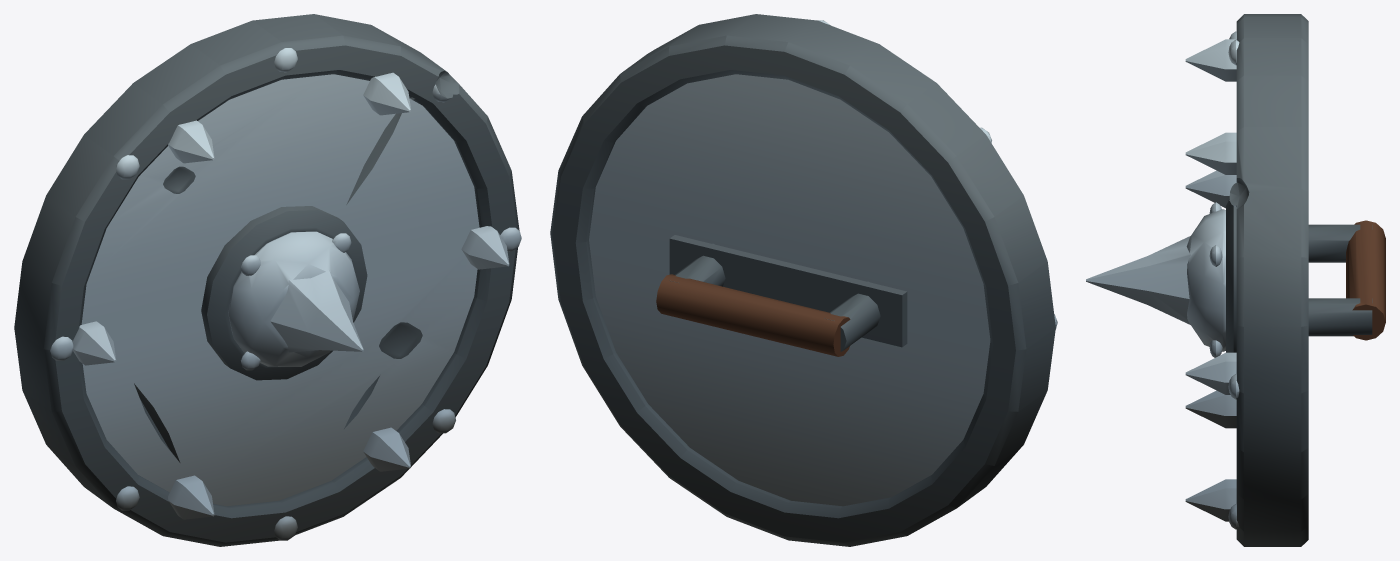
The model's file is shield_buckler_spiked.glb.
3 views of the same model, side by side, from view 1: azimuth 30°, elevation 25°; view 2: azimuth 150°, elevation 25°; view 3: azimuth 270°, elevation 25° (orthographic). The views are drawn at different scales.
Parts seen in each view (by area): view 1: Item; view 2: Item; view 3: Item.
Part boxes in pixels (x1,y1,x2,y2): Item: (14,14,521,546); Item: (550,14,1057,546); Item: (1086,14,1385,546).
Bounding box in the file's own units: 0.86 × 0.86 × 0.482.
2 materials, 2 textured.
